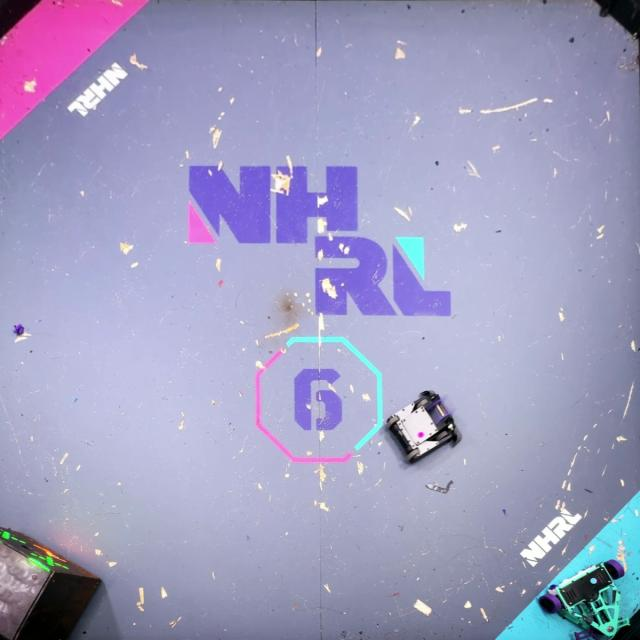housebot: (0, 525, 105, 639)
robot: (538, 557, 632, 640), (383, 387, 463, 466)
